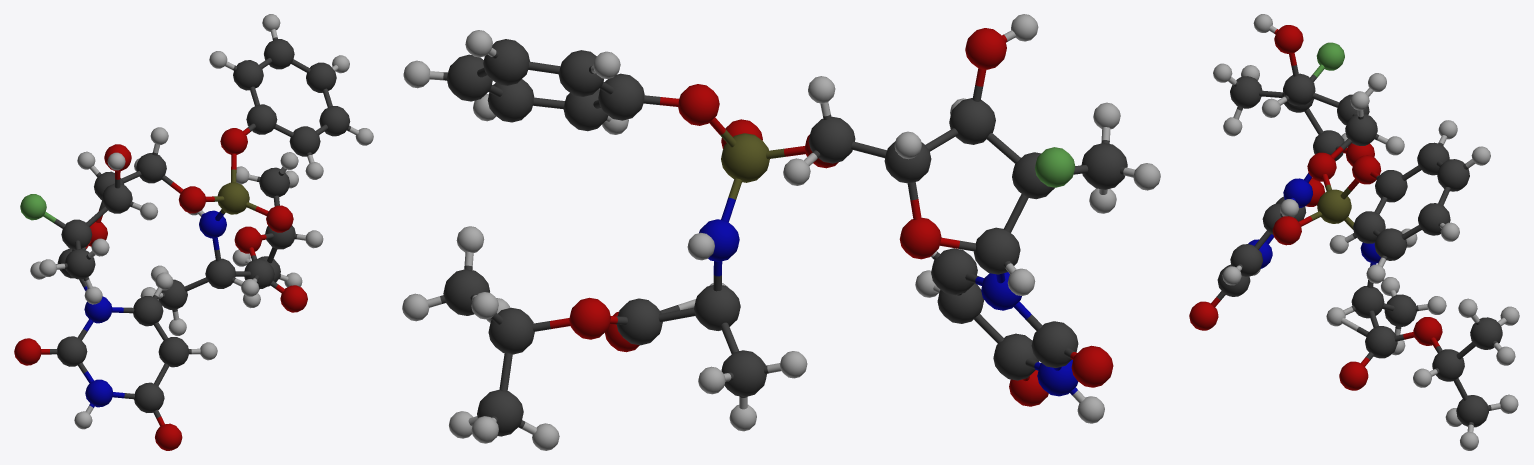
Rendered from form3.obj.
3 renders of one model, left to right at view 1: azimuth 30°, elevation 25°; view 2: azimuth 150°, elevation 25°; view 3: azimuth 270°, elevation 25°, orthographic. The views are drawn at different scales.
Visible parts, largest first — view 1: vmd_mol2_rep0; view 2: vmd_mol2_rep0; view 3: vmd_mol2_rep0.
Boxes of the visible parts, x1=… form: vmd_mol2_rep0: x1=14, y1=14, x2=373, y2=450; vmd_mol2_rep0: x1=402, y1=14, x2=1160, y2=450; vmd_mol2_rep0: x1=1189, y1=14, x2=1519, y2=450.
Size of the model in its own units: 1.46 by 0.983 by 0.9693.
